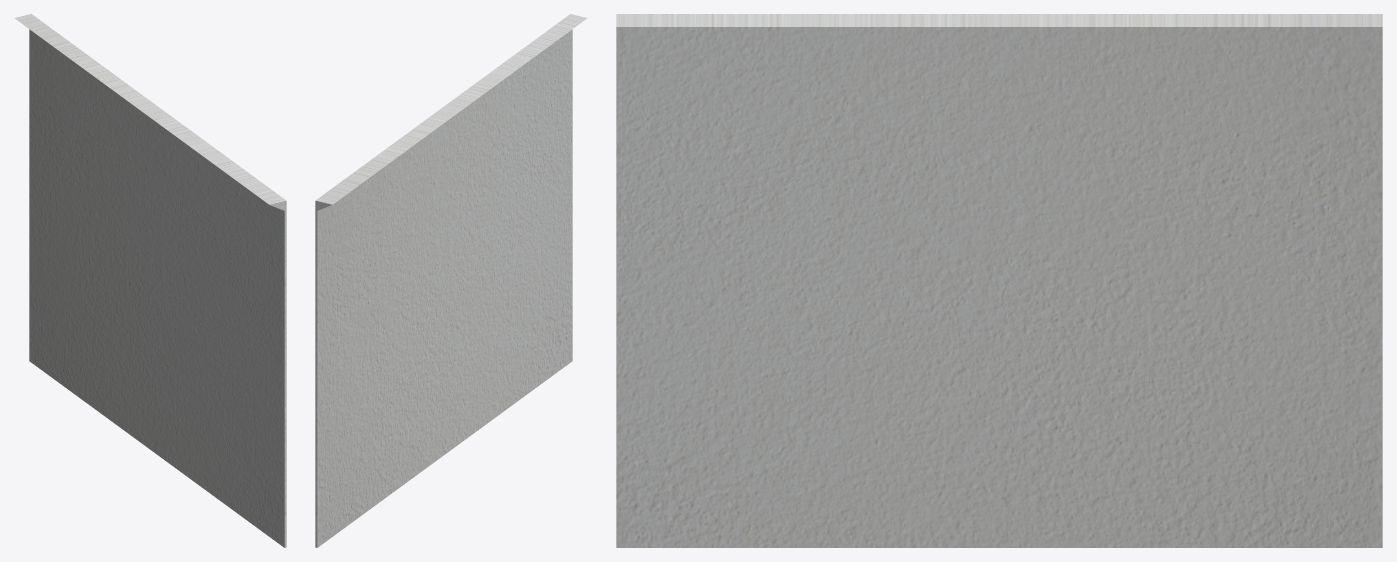
File: Wall.fbx
The picture shows the model from 3 angles, left to right: view 1: azimuth 30°, elevation 25°; view 2: azimuth 150°, elevation 25°; view 3: azimuth 270°, elevation 25°; orthographic projection. The views are drawn at different scales.
Parts seen in each view (by area): view 1: pCube2, pCube1; view 2: pCube2, pCube1; view 3: pCube2, pCube1.
Part boxes in pixels (left/top/right/bottom): pCube2: left=29, top=14, right=286, bottom=547; pCube1: left=14, top=14, right=284, bottom=210; pCube2: left=315, top=14, right=572, bottom=547; pCube1: left=317, top=14, right=587, bottom=210; pCube2: left=616, top=25, right=1382, bottom=547; pCube1: left=616, top=14, right=1382, bottom=25.
Bounding box in the file's own units: 0.7893 × 15.01 × 20.
